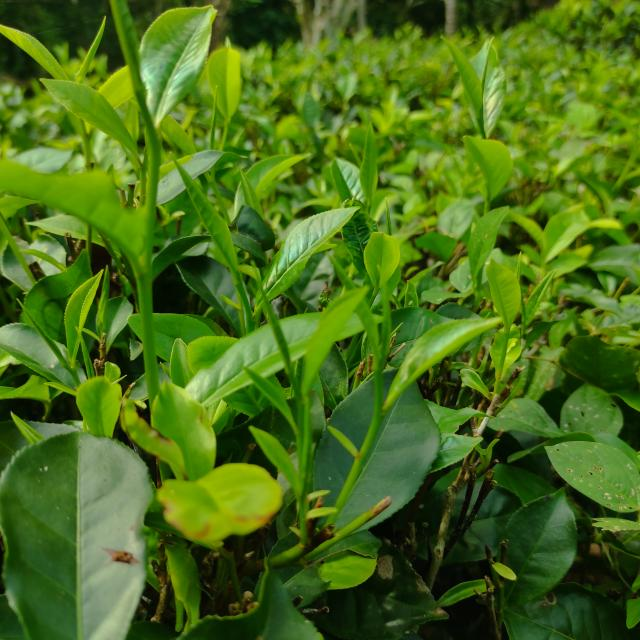unopened_leaf: (104, 0, 168, 156), (242, 255, 306, 402), (13, 292, 79, 390), (0, 333, 65, 389), (73, 10, 110, 82), (67, 310, 100, 380), (90, 259, 121, 333), (199, 80, 228, 154), (375, 256, 393, 372), (474, 34, 499, 114), (514, 242, 533, 339), (377, 188, 402, 237), (347, 138, 370, 170)
